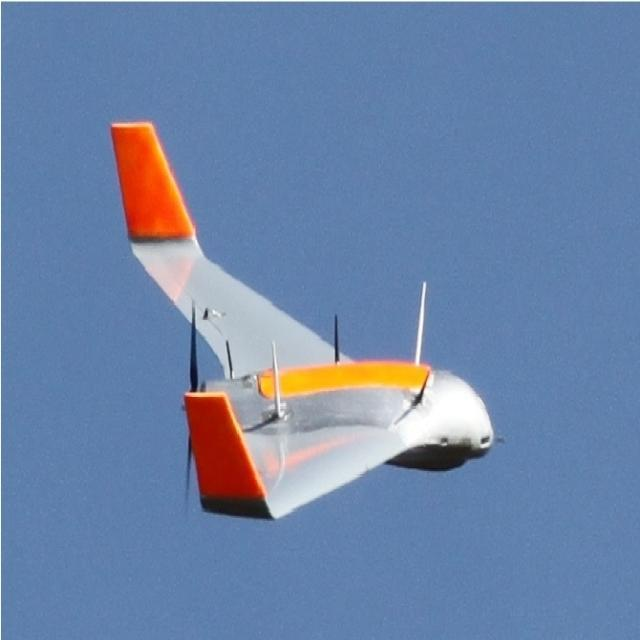iha: (99, 102, 541, 548)
